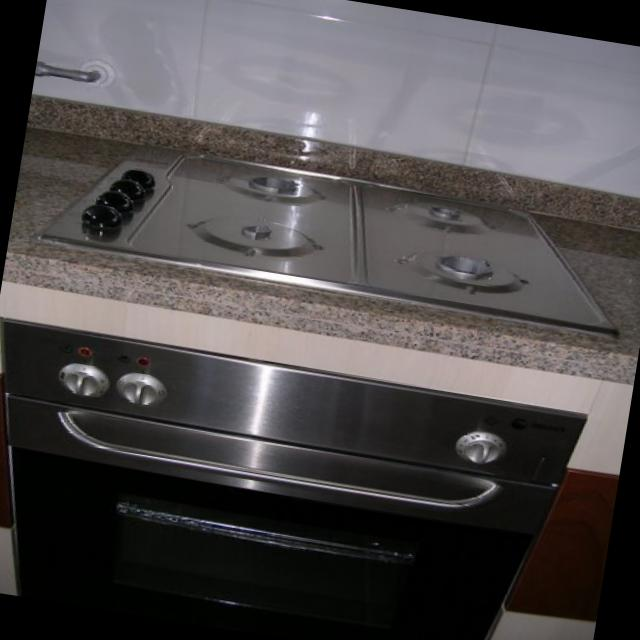Oven: (1, 317, 587, 640)
backsplash: (37, 97, 640, 228)
burner: (191, 216, 324, 257), (399, 251, 526, 293), (397, 206, 492, 231), (222, 177, 317, 201)
ceramic tile: (195, 0, 491, 159)
cooktop: (38, 144, 611, 327)
handle bar: (56, 410, 501, 510)
knob: (58, 365, 112, 399)
oven: (119, 499, 412, 622)
poign-: (53, 412, 501, 512)
wall clock: (35, 0, 640, 196)
